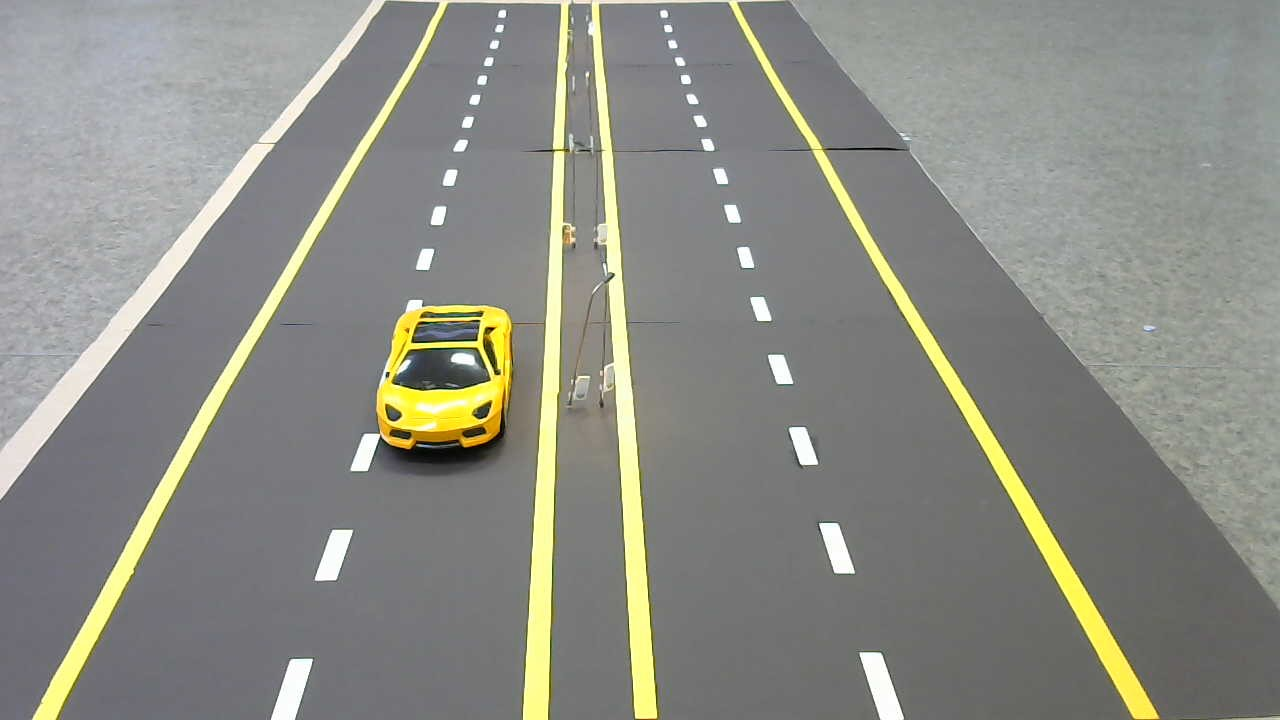front_car: (370, 302, 512, 464)
